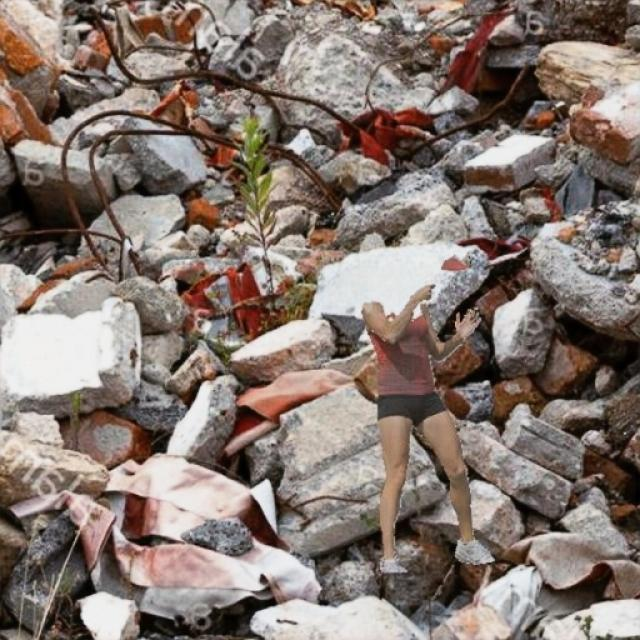Person in Rubble: (361, 253, 495, 572)
